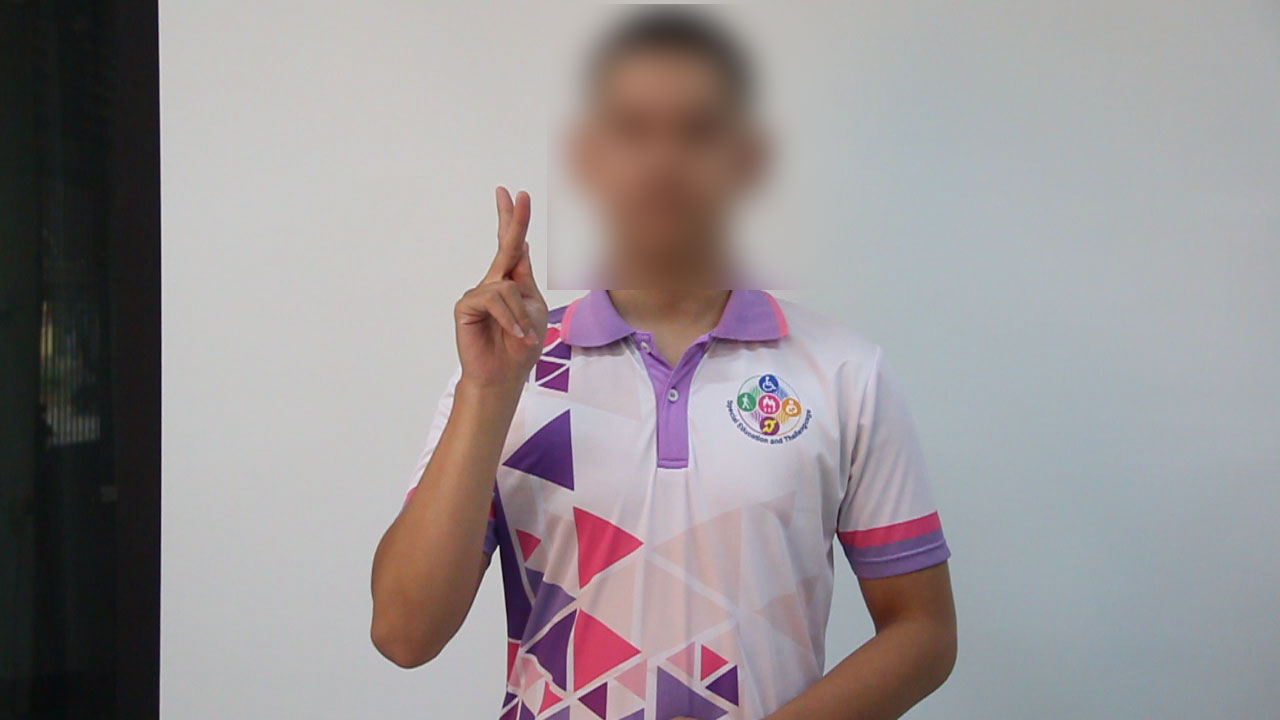ko: (390, 176, 587, 411)
